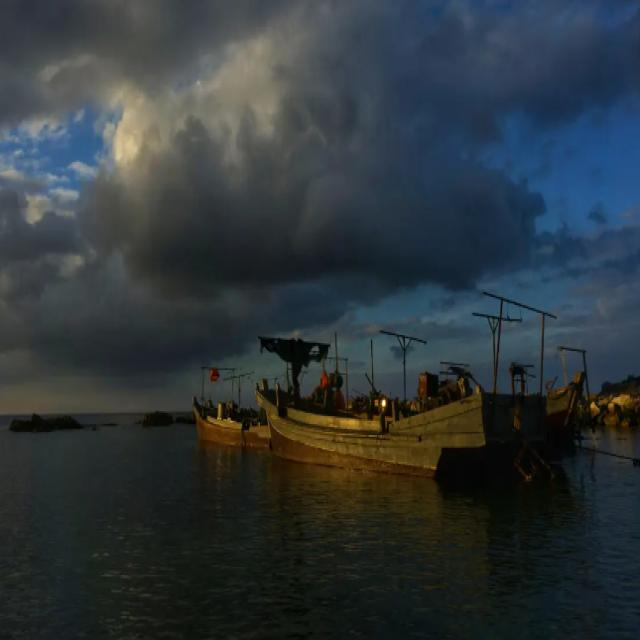fishing boat: (250, 335, 548, 474), (194, 362, 276, 448)
